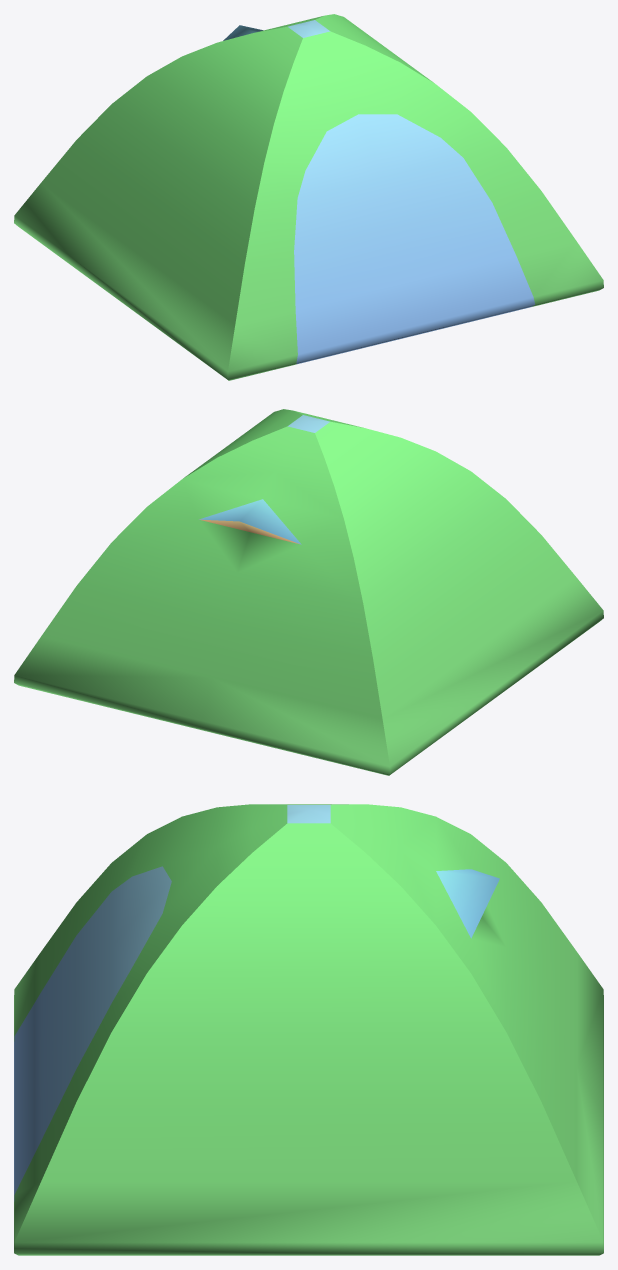
File: tent.gltf
3 renders of one model, top to bottom at view 1: azimuth 30°, elevation 25°; view 2: azimuth 150°, elevation 25°; view 3: azimuth 270°, elevation 25°, orthographic. The views are drawn at different scales.
Visible parts, largest first — view 1: tent; view 2: tent; view 3: tent.
Boxes of the visible parts, x1,y1,x2,y2 form: tent: (14, 14, 603, 380); tent: (14, 409, 603, 775); tent: (14, 804, 603, 1255).
Size of the model in its own units: 1.1 by 0.6492 by 1.08.
Materials: 1 (1 with a texture image).
